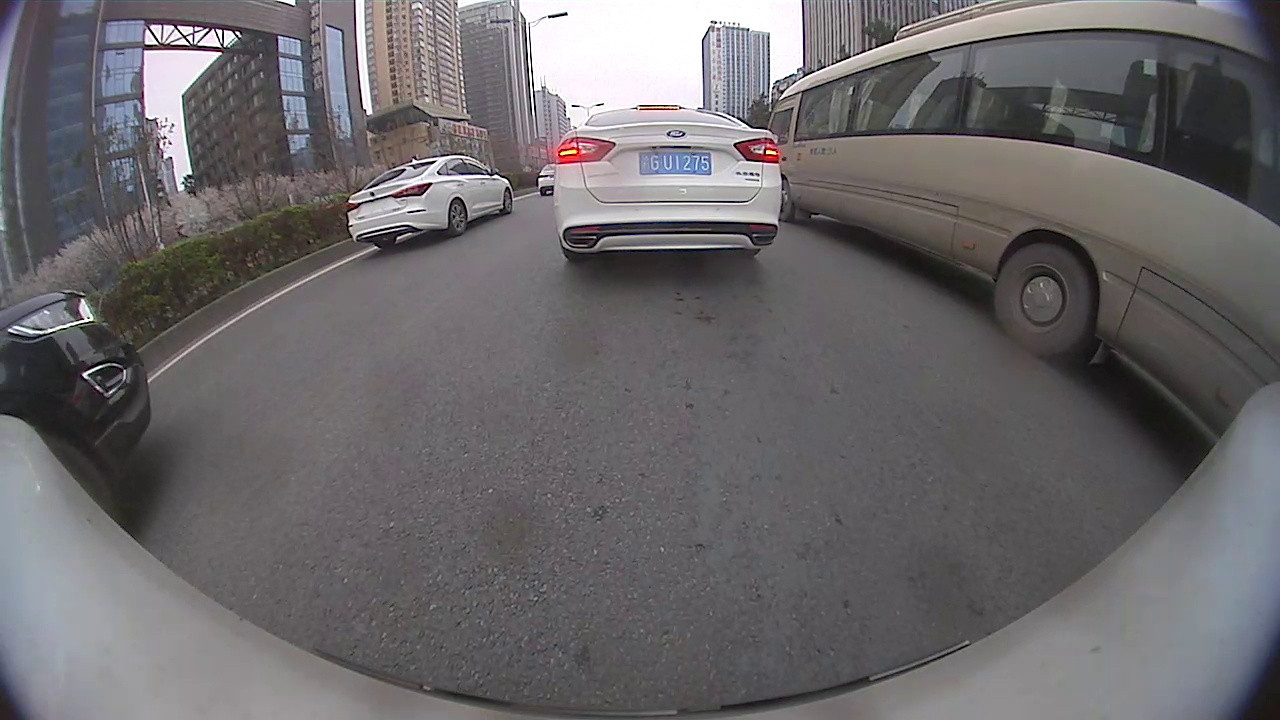bus: (764, 0, 1279, 435)
car: (554, 102, 783, 262), (0, 287, 152, 517), (342, 153, 515, 251), (536, 160, 558, 194)
front: (502, 186, 514, 214)
rear: (993, 242, 1092, 359), (447, 197, 468, 238)
